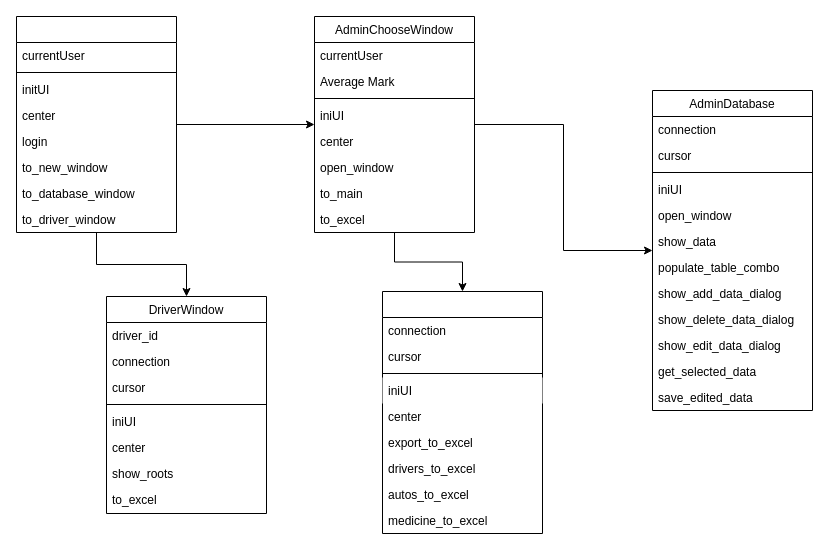
Image size: 829x550. Some labels were removed from this diagram. The box of each missing label's shape, as (x1, y1, x2, y2) in pixels:
AdminExcel: (382, 290, 542, 534)
AuthorizationWindow: (16, 16, 176, 232)
